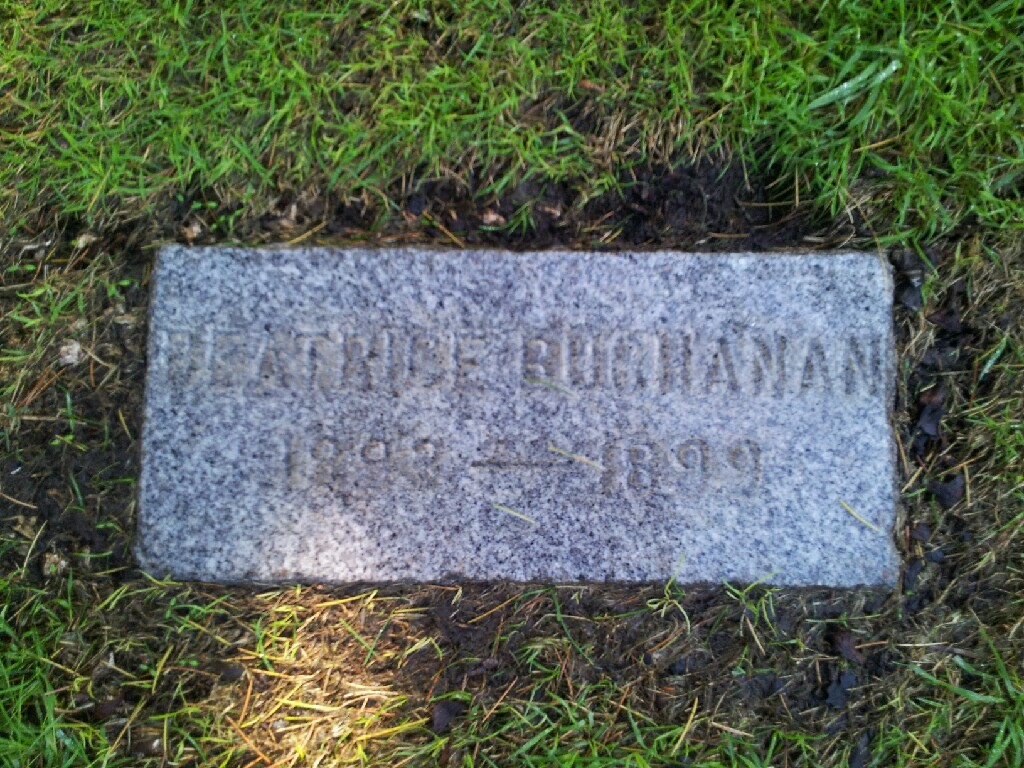flat: (134, 211, 941, 602)
